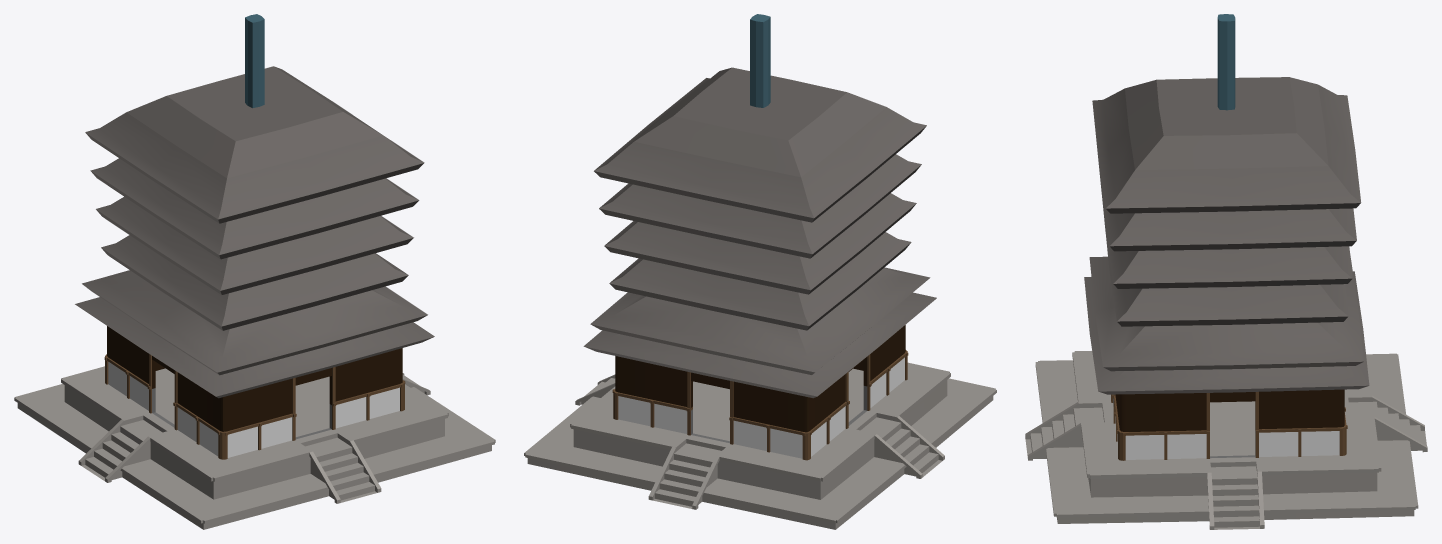
Rendered from TT_Pagoda.fbx.
3 renders of one model, left to right at view 1: azimuth 30°, elevation 25°; view 2: azimuth 150°, elevation 25°; view 3: azimuth 270°, elevation 25°, orthographic. The views are drawn at different scales.
Visible parts, largest first — view 1: Pagoda; view 2: Pagoda; view 3: Pagoda.
Part boxes in pixels (x1=…): Pagoda: x1=14, y1=14, x2=495, y2=529; Pagoda: x1=524, y1=14, x2=996, y2=529; Pagoda: x1=1025, y1=14, x2=1427, y2=529.
Bounding box in the file's own units: 1247 × 1461 × 1247.
